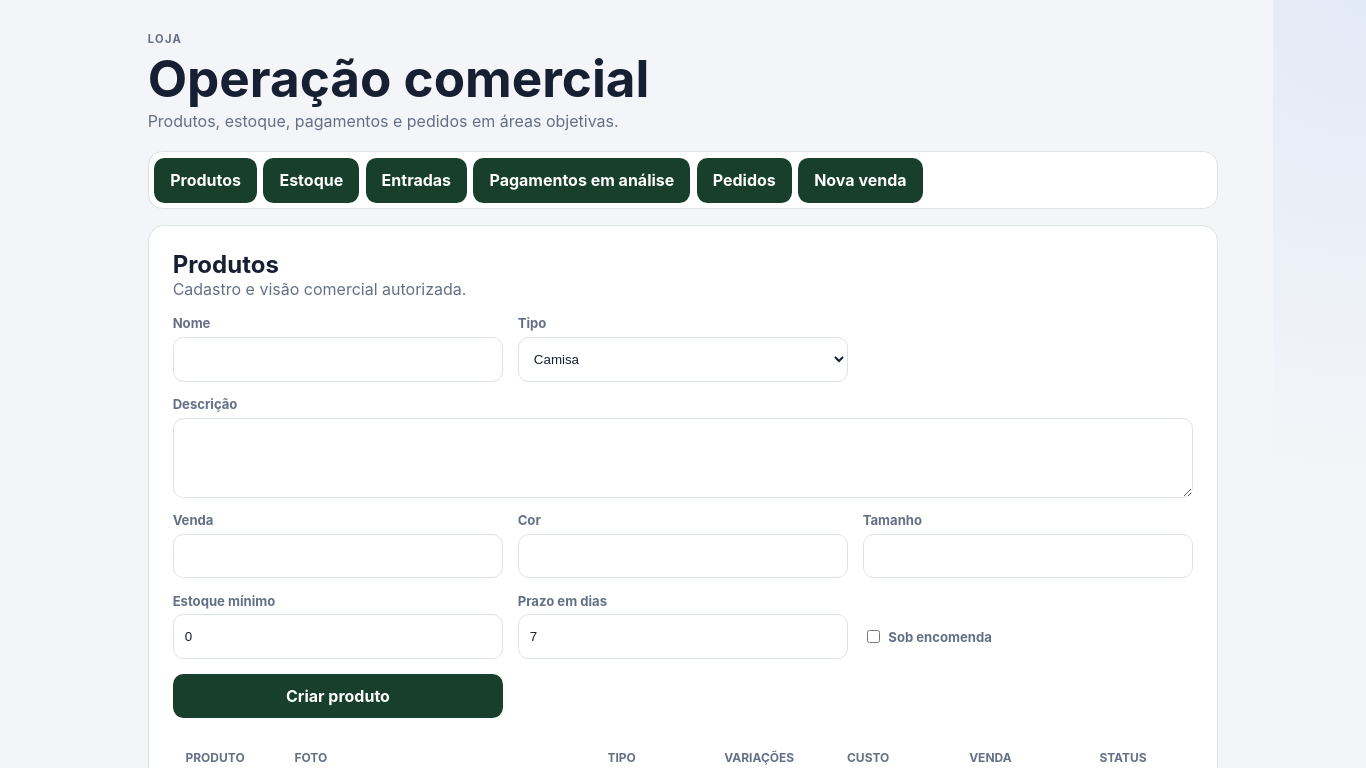
Test: StoreOperationsPage › shows internal orders only to ADMIN and keeps server balances visible
Expected: the heading "Produtos" is shown, [173,250,279,279]
Click the button "Pedidos" at [744, 180], box [697,158,792,203]
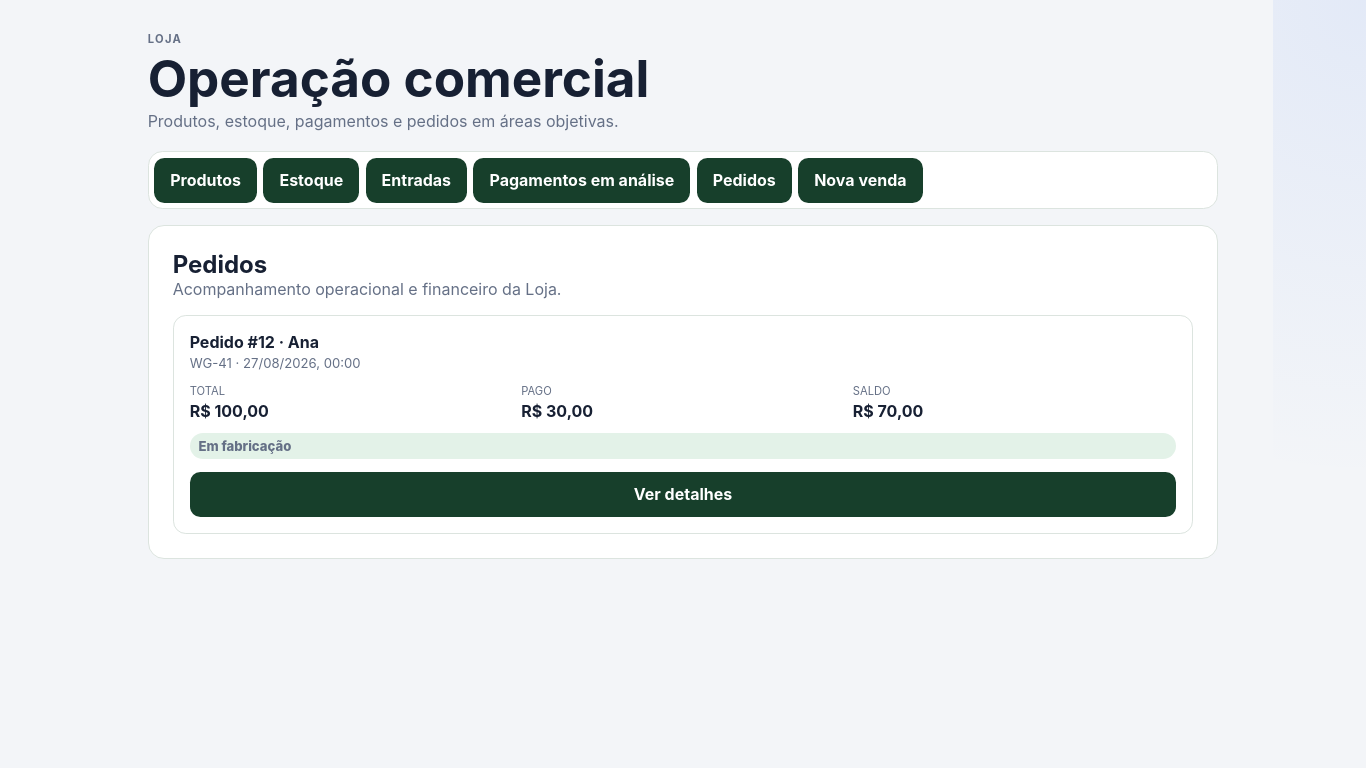
Now the text "Pedido #12 · Ana" is shown, box [190,332,319,352]
Now the text "R$ 70,00" is shown, box [853,401,923,421]
Now the text "Em fabricação" is shown, box [190,433,1176,459]
